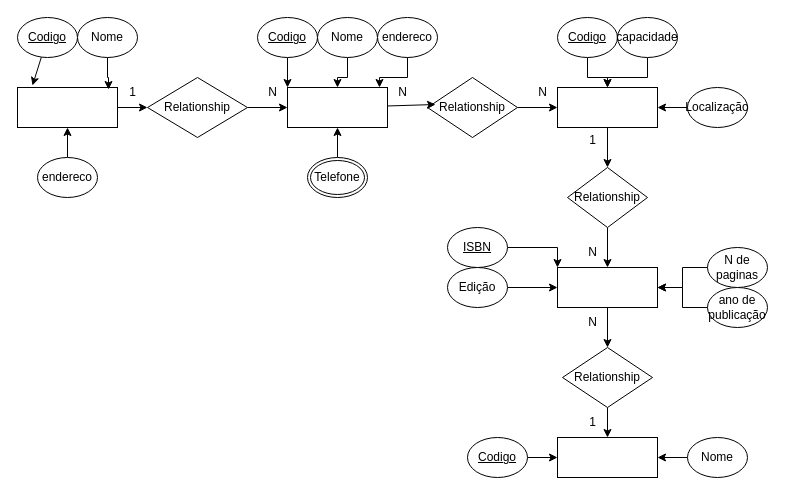
The diagram is 785 pixels wide and 495 high, and some of its shapes have lost their labels. The shapes that lost their labels are listed below. From the top down, each one's centre as x and y in pixels, then its label:
At point 67,107: "Biblioteca".
At point 337,107: "atendentes".
At point 607,107: "estantes".
At point 607,287: "livros".
At point 607,457: "categorias".
